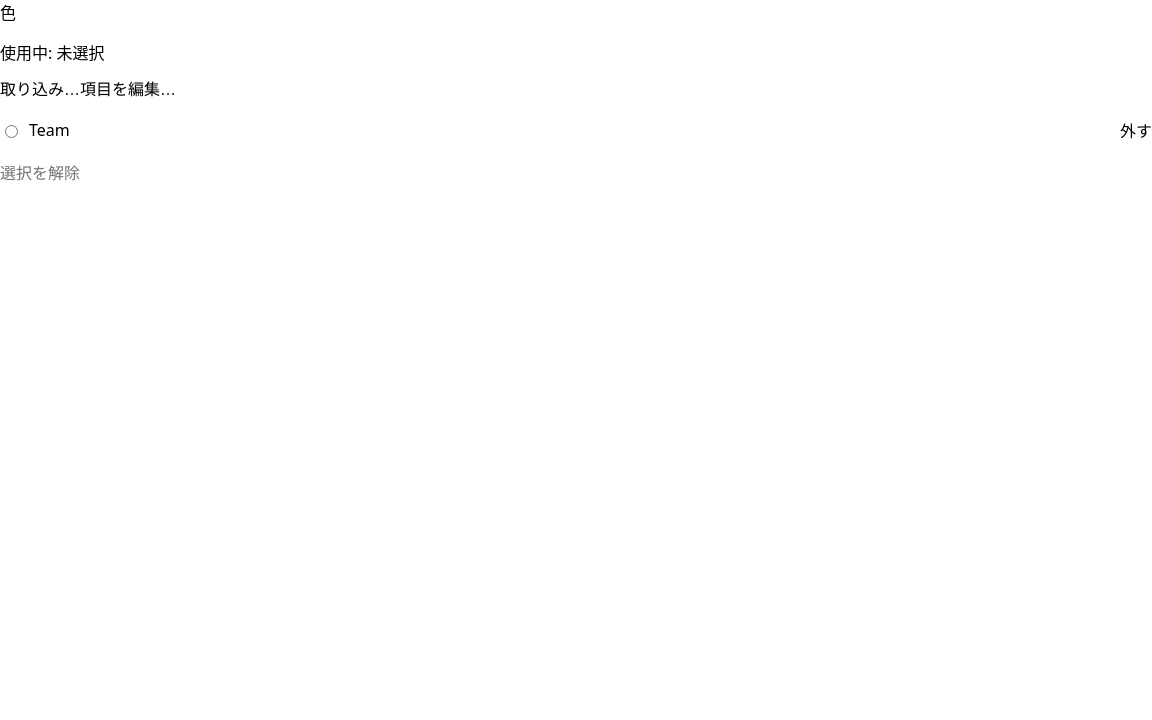
Test: SettingsCatalogSection DOM (C4) › shows color overwrite dialog before list with aria-label
The width and height of the screenshot is (1152, 720).
What coordinates should you click on to do the following:
click the button "取り込み…"
I would click on:
 (40, 88)
Its box is x1=0 y1=76 x2=80 y2=100.
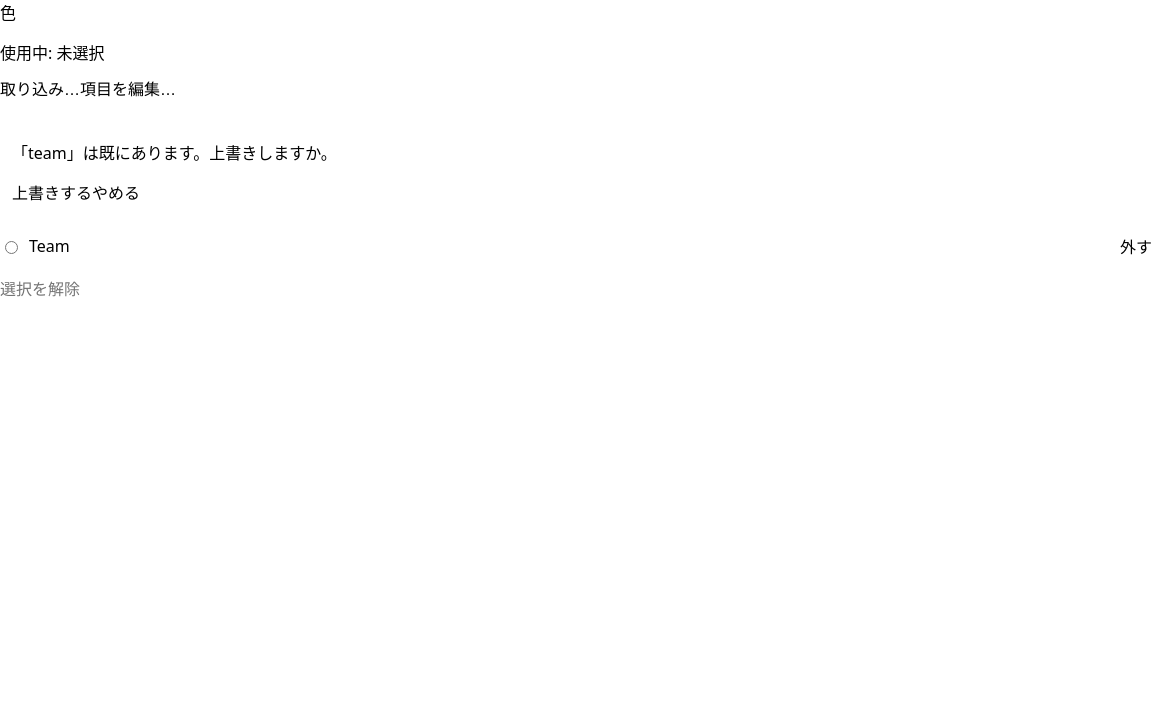
Result: the button "上書きする" is shown at x1=12 y1=180 x2=92 y2=204
Result: the button "やめる" is shown at x1=92 y1=180 x2=140 y2=204
